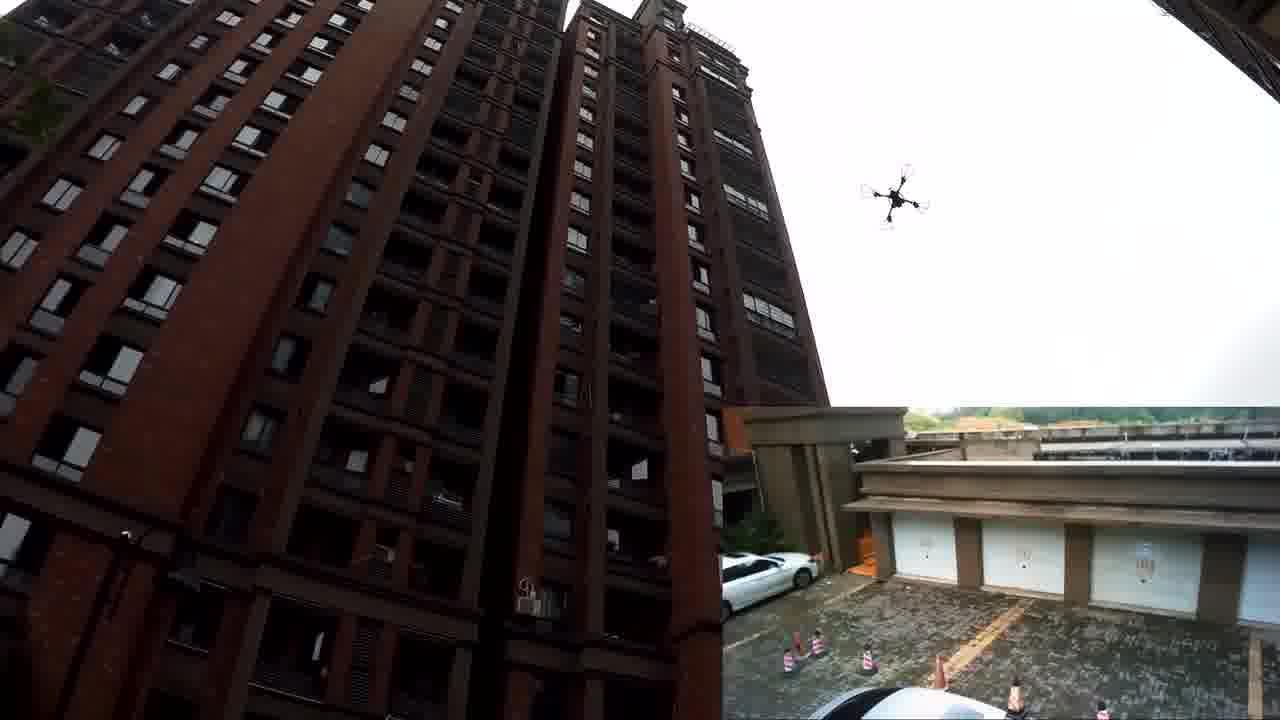drone: (859, 161, 929, 225)
